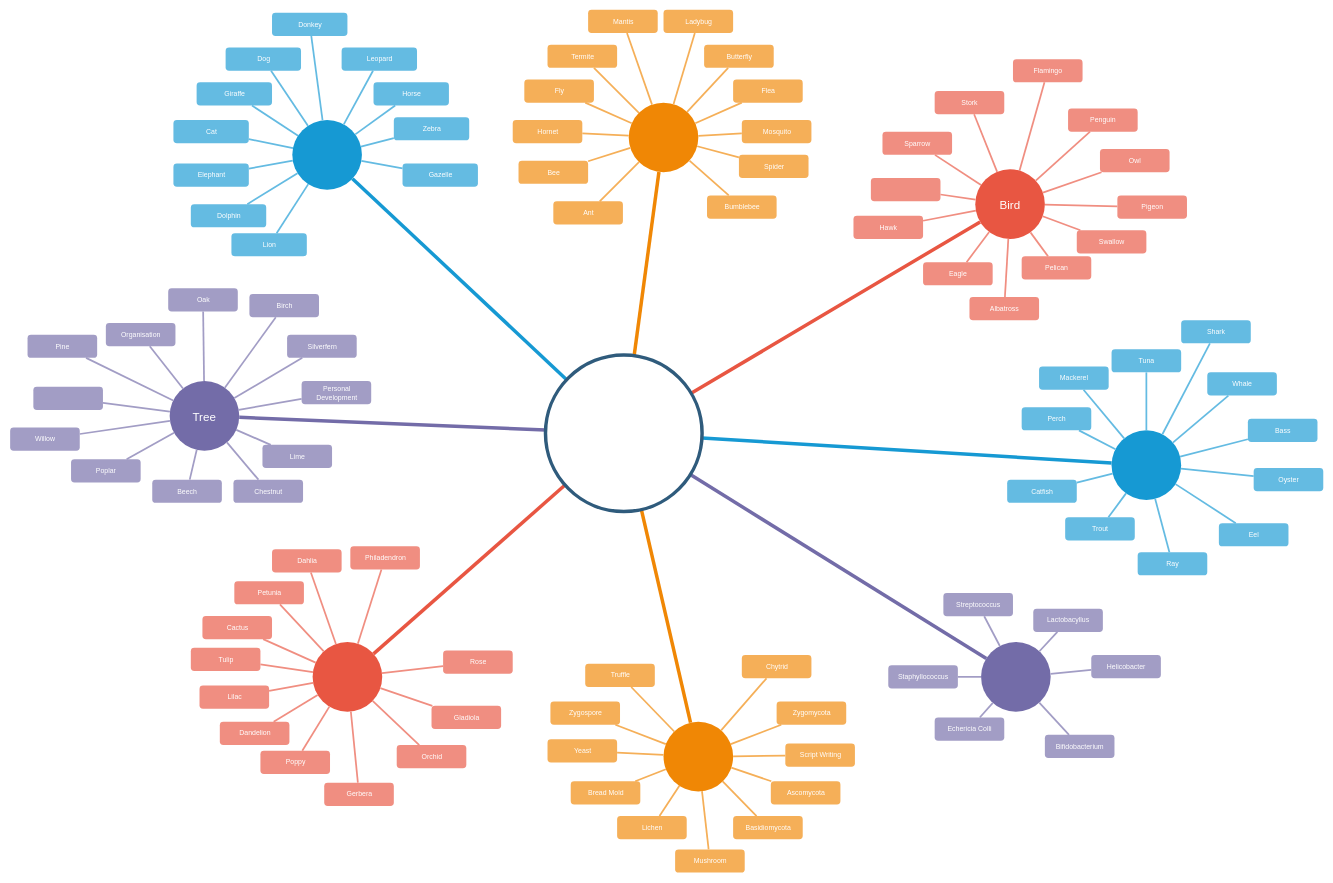
This 1333x883 diagram has some shape labels left out. The shapes that lost their labels are listed below. From the top down, each one's centre as x and y in pixels, then its label:
At point (327, 154): "Mammal".
At point (663, 137): "Insect".
At point (905, 189): "Falcon".
At point (68, 398): "Acacia".
At point (623, 433): "JavaScript".
At point (1146, 465): "Fish".
At point (347, 676): "Flower".
At point (1015, 676): "Bacteria".
At point (698, 756): "Fungi".
